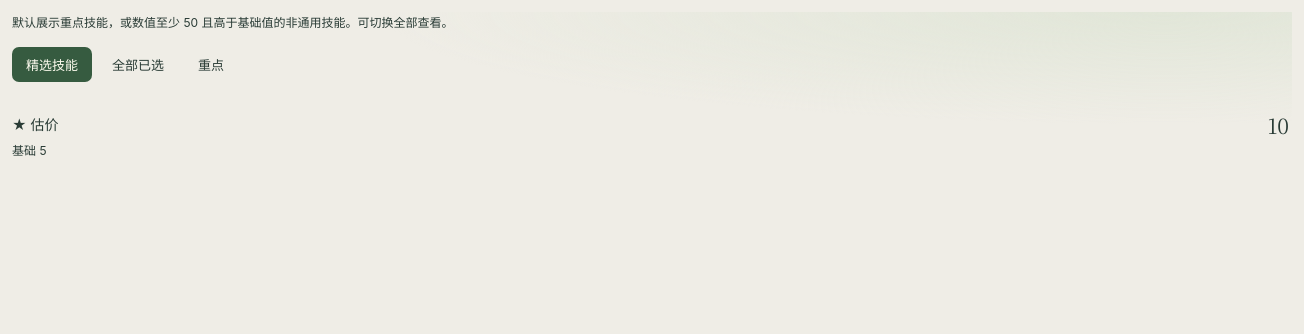
Test: 通用与低值数值技能收起，重点技能始终可见
Expected: the number of elements with class "coc-skill-row" is 1, [12, 114, 1292, 158]
Click the button "全部已选" at x=138, y=64, box [98, 47, 178, 82]
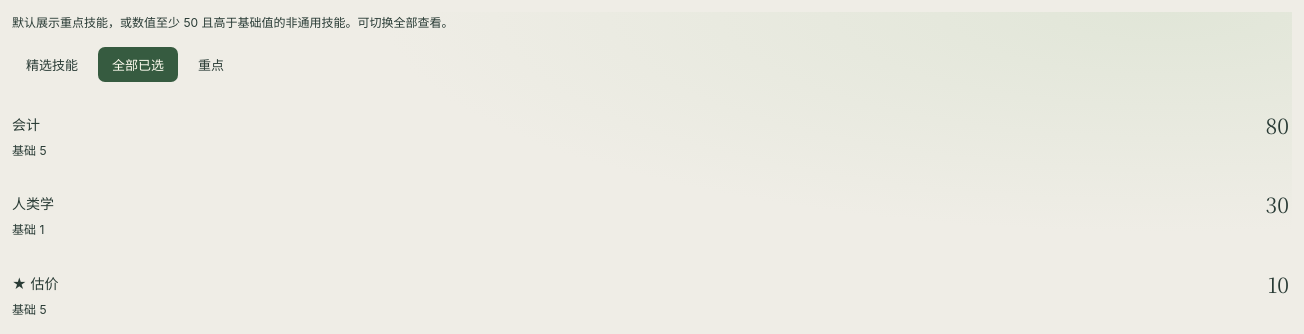
Now the number of elements with class "coc-skill-row" is 3, box [12, 114, 1292, 158]; [12, 193, 1292, 237]; [12, 273, 1292, 317]
